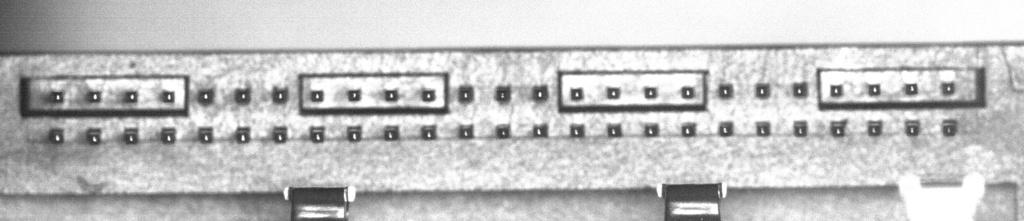pin_ok: (904, 118, 921, 136), (457, 85, 474, 102), (830, 120, 847, 137), (531, 85, 549, 101), (942, 118, 958, 136), (495, 85, 511, 102), (346, 125, 362, 142), (235, 126, 251, 143), (867, 119, 883, 136), (197, 88, 214, 104), (234, 87, 251, 103), (48, 127, 64, 143), (160, 127, 176, 143), (272, 86, 288, 102), (197, 127, 213, 143), (792, 82, 808, 98), (123, 128, 139, 144), (86, 128, 102, 144), (272, 126, 287, 143), (310, 126, 325, 142), (458, 124, 474, 139), (384, 125, 399, 141), (793, 120, 808, 136), (756, 120, 771, 136), (719, 120, 734, 136), (718, 83, 734, 98), (421, 125, 437, 140), (755, 83, 770, 98), (607, 123, 623, 137), (643, 123, 659, 137), (421, 88, 437, 102), (496, 124, 511, 138), (570, 123, 585, 137), (681, 123, 696, 137), (532, 124, 547, 138), (643, 85, 658, 99), (569, 87, 584, 101), (941, 81, 956, 95), (681, 85, 695, 99), (309, 89, 324, 102), (829, 84, 844, 97), (161, 90, 175, 103), (347, 88, 361, 101), (384, 88, 398, 101), (606, 86, 620, 99), (904, 82, 918, 95), (50, 89, 64, 102), (867, 83, 881, 96), (87, 90, 101, 102), (125, 90, 138, 102)
